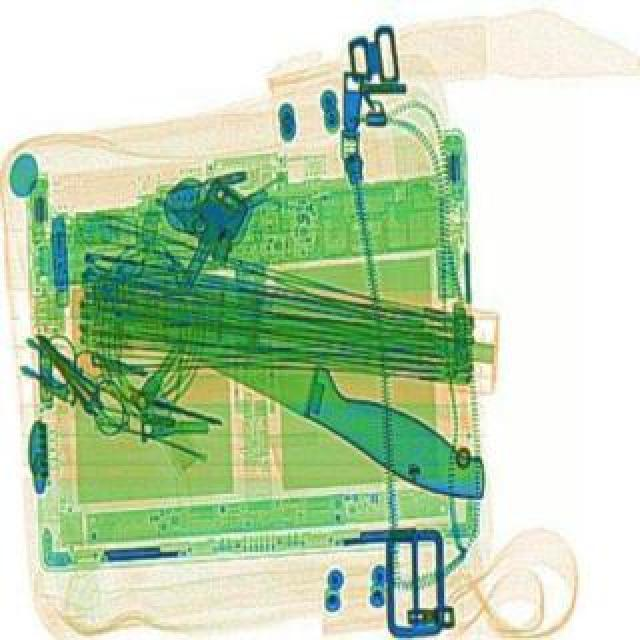knife: (98, 250, 502, 512)
